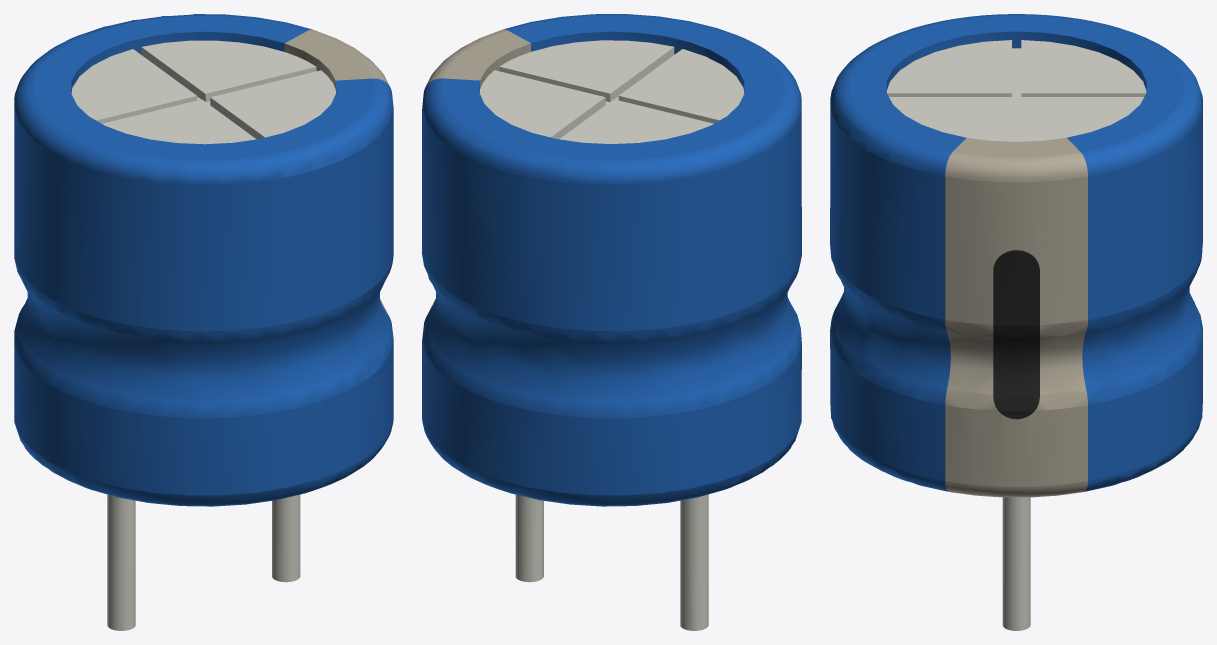
The model's file is kc-cp_radial_d4.0mm_p2.00mm.glb.
3 views of the same model, side by side, from view 1: azimuth 30°, elevation 25°; view 2: azimuth 150°, elevation 25°; view 3: azimuth 270°, elevation 25° (orthographic).
Parts seen in each view (by area): view 1: 0_0.16666666666666666_0.5_0, 0.6666666666666666_0.6666666666666666_0.5833333333333334_0.8, 0.4166666666666667_0.4166666666666667_0.3333333333333333_0; view 2: 0_0.16666666666666666_0.5_0, 0.6666666666666666_0.6666666666666666_0.5833333333333334_0.8, 0.4166666666666667_0.4166666666666667_0.3333333333333333_0; view 3: 0_0.16666666666666666_0.5_0, 0.4166666666666667_0.4166666666666667_0.3333333333333333_0, 0.6666666666666666_0.6666666666666666_0.5833333333333334_0.8, 0_0_0_0.
Part boxes in pixels (bbox=[...]): 0_0.16666666666666666_0.5_0: bbox=[14, 14, 393, 506]; 0.6666666666666666_0.6666666666666666_0.5833333333333334_0.8: bbox=[71, 40, 335, 630]; 0.4166666666666667_0.4166666666666667_0.3333333333333333_0: bbox=[284, 29, 389, 315]; 0_0.16666666666666666_0.5_0: bbox=[422, 14, 801, 506]; 0.6666666666666666_0.6666666666666666_0.5833333333333334_0.8: bbox=[480, 40, 744, 630]; 0.4166666666666667_0.4166666666666667_0.3333333333333333_0: bbox=[426, 29, 530, 315]; 0_0.16666666666666666_0.5_0: bbox=[830, 14, 1202, 491]; 0.4166666666666667_0.4166666666666667_0.3333333333333333_0: bbox=[945, 137, 1087, 497]; 0.6666666666666666_0.6666666666666666_0.5833333333333334_0.8: bbox=[887, 40, 1146, 630]; 0_0_0_0: bbox=[993, 250, 1039, 419].
Size of the model in its own units: 0.3995 by 0.6 by 0.3996.
